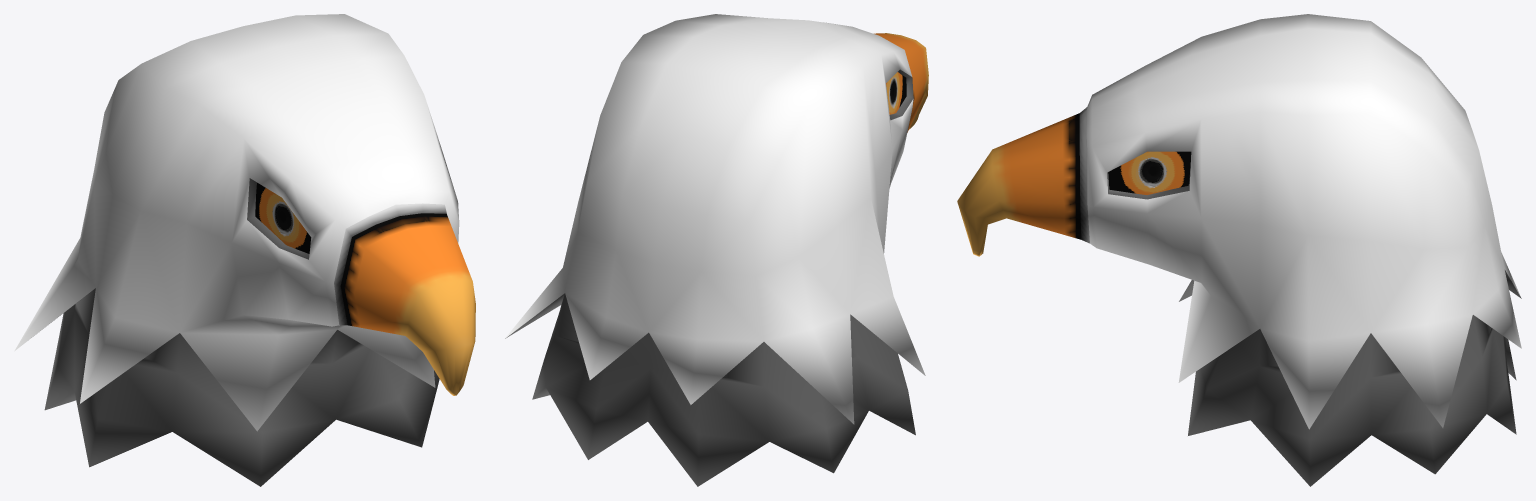
Rendered from eagle.fbx.
3 views of the same model, side by side, from view 1: azimuth 30°, elevation 25°; view 2: azimuth 150°, elevation 25°; view 3: azimuth 270°, elevation 25° (orthographic). The views are drawn at different scales.
Parts seen in each view (by area): view 1: Eagle; view 2: Eagle; view 3: Eagle.
Boxes of the visible parts, x1=… form: Eagle: x1=14, y1=14, x2=475, y2=486; Eagle: x1=505, y1=14, x2=928, y2=486; Eagle: x1=957, y1=14, x2=1521, y2=486.
Size of the model in its own units: 2.23 by 2.07 by 2.98.
Materials: 2 (2 with a texture image).
